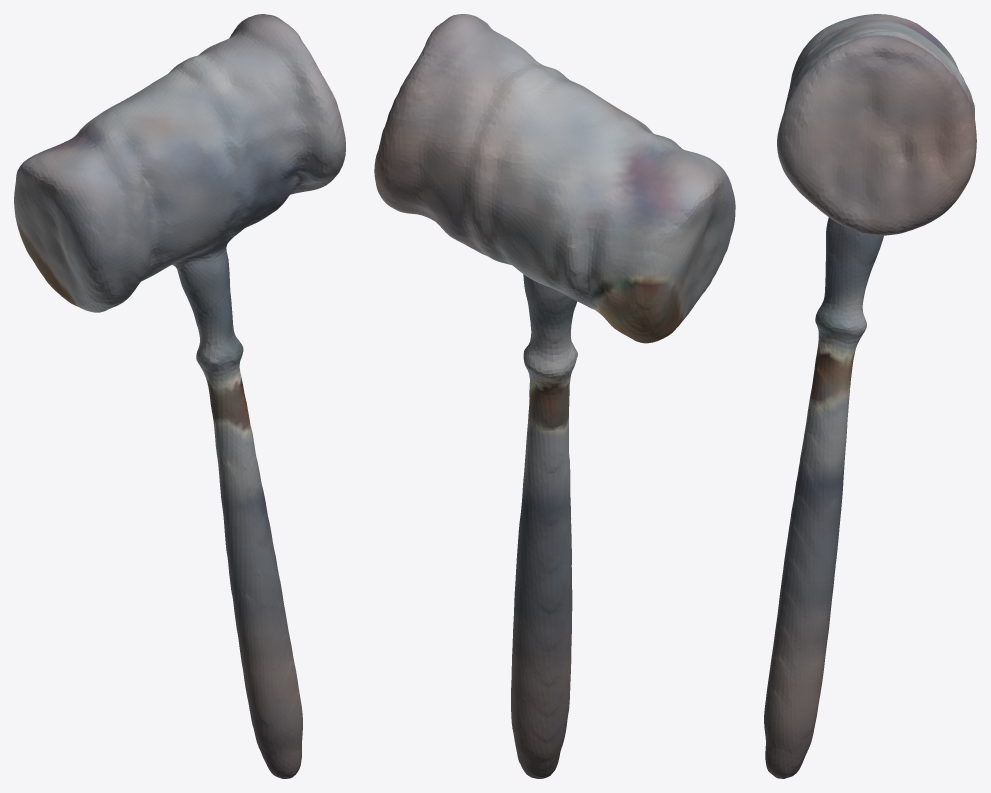
File: martelo.glb
3 views of the same model, side by side, from view 1: azimuth 30°, elevation 25°; view 2: azimuth 150°, elevation 25°; view 3: azimuth 270°, elevation 25° (orthographic). The views are drawn at different scales.
Parts seen in each view (by area): view 1: geometry_0; view 2: geometry_0; view 3: geometry_0.
Boxes of the visible parts, x1,y1,x2,y2 form: geometry_0: [14, 14, 345, 778]; geometry_0: [374, 14, 735, 778]; geometry_0: [764, 14, 976, 778].
Size of the model in its own units: 0.4138 by 1 by 0.2547.
